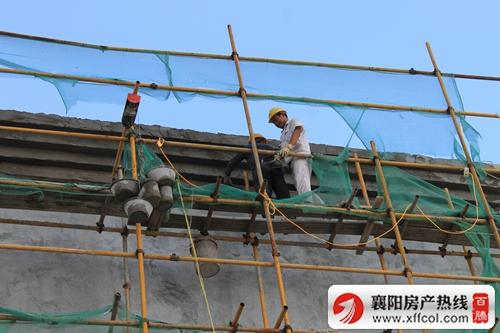helmet: (269, 108, 291, 122), (249, 134, 271, 143)
